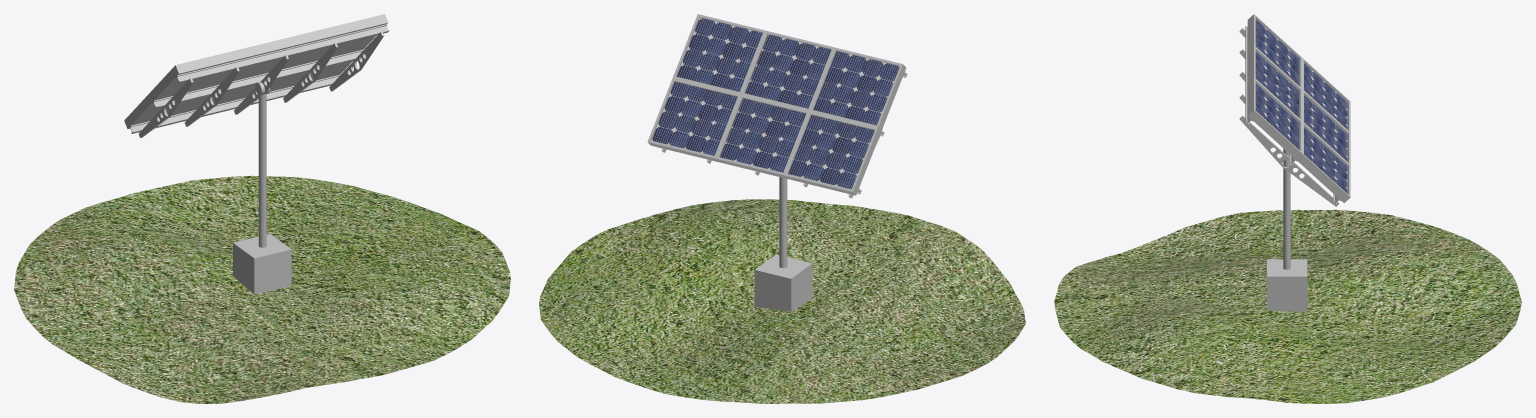
File: SolarPanel.gltf
3 views of the same model, side by side, from view 1: azimuth 30°, elevation 25°; view 2: azimuth 150°, elevation 25°; view 3: azimuth 270°, elevation 25° (orthographic). The views are drawn at different scales.
Visible parts, largest first — view 1: Circle001, Box001, Box002, Cylinder001; view 2: Circle001, Box001, Box002, Cylinder001; view 3: Circle001, Box001, Box002, Cylinder001.
Boxes of the visible parts, x1,y1,x2,y2 form: Circle001: (14, 175, 510, 403); Box001: (124, 14, 389, 137); Box002: (233, 234, 291, 294); Cylinder001: (258, 94, 266, 247); Circle001: (539, 199, 1025, 403); Box001: (647, 14, 907, 198); Box002: (754, 254, 812, 311); Cylinder001: (779, 177, 787, 268); Circle001: (1054, 209, 1521, 403); Box001: (1239, 14, 1350, 206); Box002: (1267, 259, 1307, 311); Cylinder001: (1283, 148, 1290, 269).
Size of the model in its own units: 1028 by 633 by 1028.
Materials: 3 (2 with a texture image).
